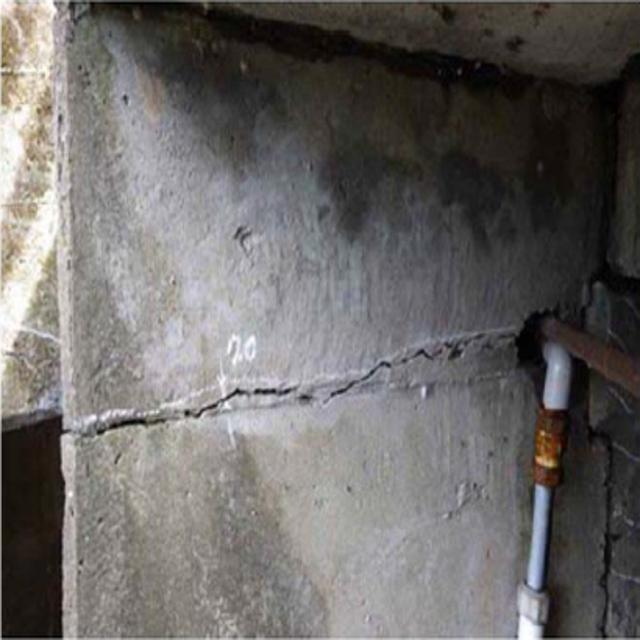crack: (41, 312, 530, 454)
